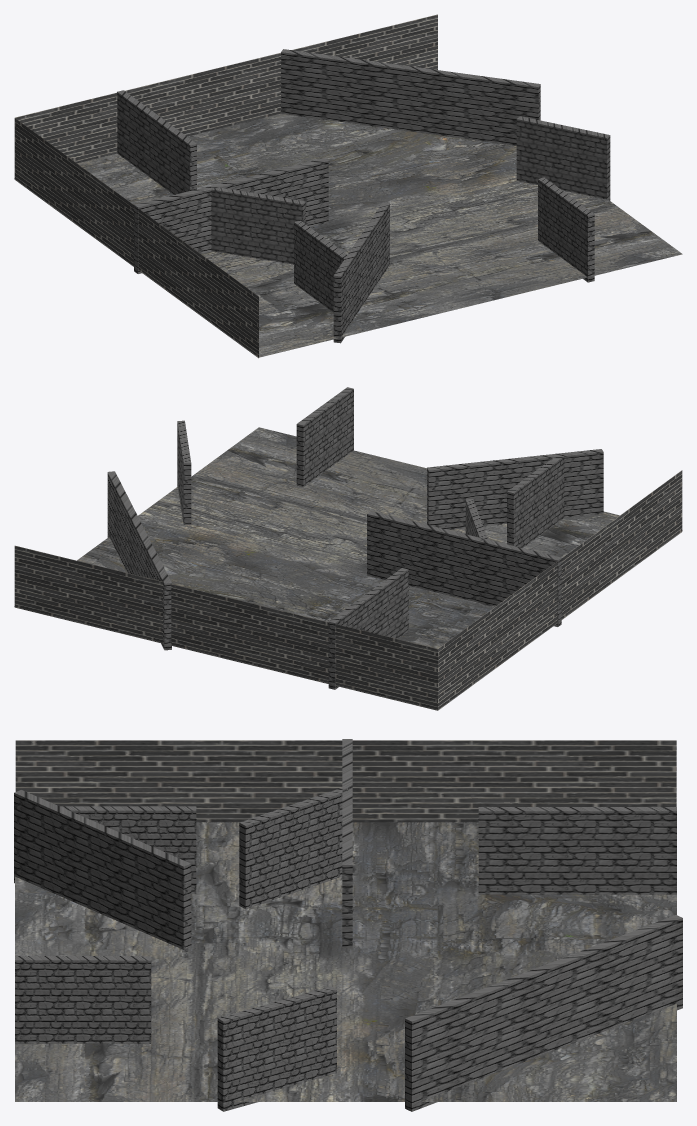
Rendered from Map1Unity.fbx.
3 renders of one model, top to bottom at view 1: azimuth 30°, elevation 25°; view 2: azimuth 150°, elevation 25°; view 3: azimuth 270°, elevation 25°, orthographic. The views are drawn at different scales.
Parts seen in each view (by area): view 1: FloorPlane, polySurface1, Wall10, polySurface2, Wall11, Wall16, Wall12, Wall14, Wall3, Wall15, Wall13; view 2: FloorPlane, polySurface1, polySurface2, Wall11, Wall3, Wall15, Wall10, Wall13, Wall14, Wall16, Wall12; view 3: FloorPlane, polySurface2, Wall10, Wall14, Wall3, Wall15, Wall16, Wall12, Wall13, Wall11.
Boxes of the visible parts, x1,y1,x2,y2 form: FloorPlane: [14, 113, 682, 357]; polySurface1: [15, 14, 437, 163]; Wall10: [281, 49, 540, 145]; polySurface2: [14, 118, 258, 358]; Wall11: [134, 158, 328, 273]; Wall16: [516, 116, 610, 200]; Wall12: [209, 187, 305, 264]; Wall14: [117, 90, 196, 194]; Wall3: [333, 202, 389, 343]; Wall15: [538, 177, 594, 282]; Wall13: [294, 220, 348, 312]; FloorPlane: [14, 427, 682, 709]; polySurface1: [14, 545, 437, 710]; polySurface2: [438, 470, 682, 710]; Wall11: [367, 511, 561, 626]; Wall3: [427, 449, 603, 529]; Wall15: [296, 387, 353, 486]; Wall10: [107, 471, 171, 650]; Wall13: [507, 455, 564, 547]; Wall14: [328, 568, 408, 689]; Wall16: [177, 420, 191, 524]; Wall12: [465, 499, 487, 541]; FloorPlane: [15, 822, 676, 1101]; polySurface2: [15, 740, 676, 822]; Wall10: [405, 915, 682, 1111]; Wall14: [478, 807, 676, 894]; Wall3: [14, 790, 191, 949]; Wall15: [15, 956, 151, 1043]; Wall16: [217, 986, 336, 1111]; Wall12: [239, 786, 349, 909]; Wall13: [60, 806, 196, 893]; Wall11: [342, 739, 352, 948].
Size of the model in its own units: 16.14 by 2.4 by 16.14.
